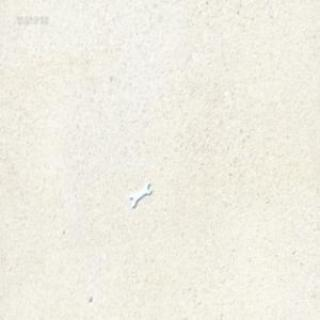Wrenchtrack_idkeyframe: (128, 181, 152, 209)
